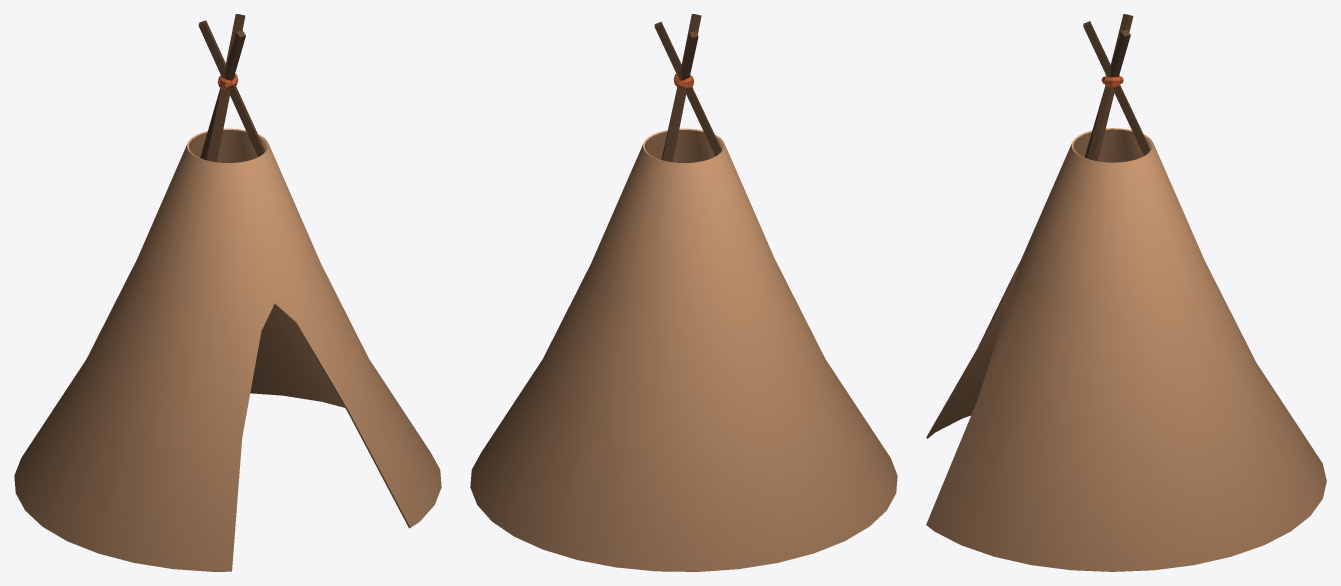
File: Tent_01.fbx
The picture shows the model from 3 angles, left to right: view 1: azimuth 30°, elevation 25°; view 2: azimuth 150°, elevation 25°; view 3: azimuth 270°, elevation 25°; orthographic projection.
Parts seen in each view (by area): view 1: Tent_01_LOD0; view 2: Tent_01_LOD0; view 3: Tent_01_LOD0.
Boxes of the visible parts, box(x1,y1,x2,y2) form: Tent_01_LOD0: box(14, 14, 441, 571); Tent_01_LOD0: box(470, 14, 897, 571); Tent_01_LOD0: box(926, 14, 1326, 571).
Size of what is drawn, in the model's own units: 2.62 by 3.1 by 2.45.
